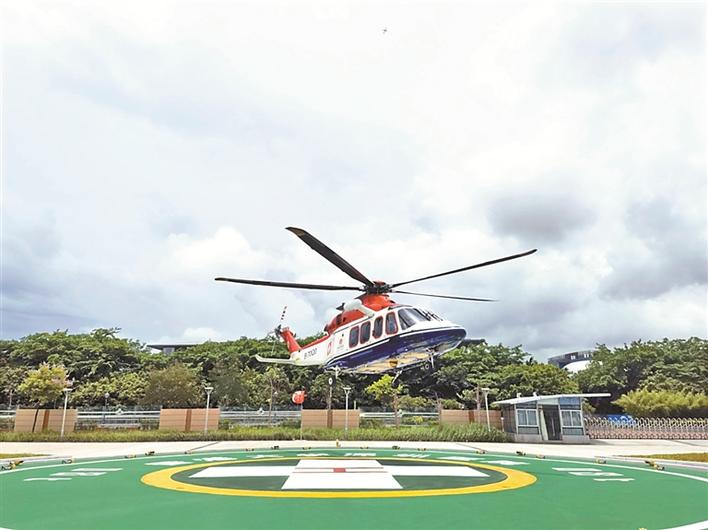Apron: (139, 457, 537, 499)
